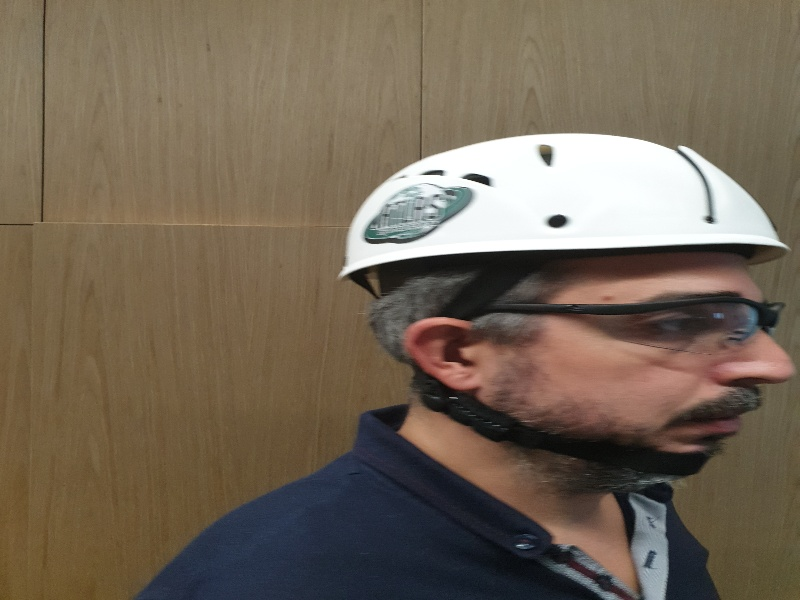Baret: (346, 132, 790, 280)
Gozluk: (499, 298, 791, 355)
